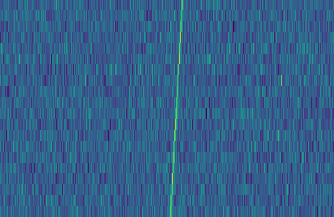signal: (165, 0, 186, 217)
